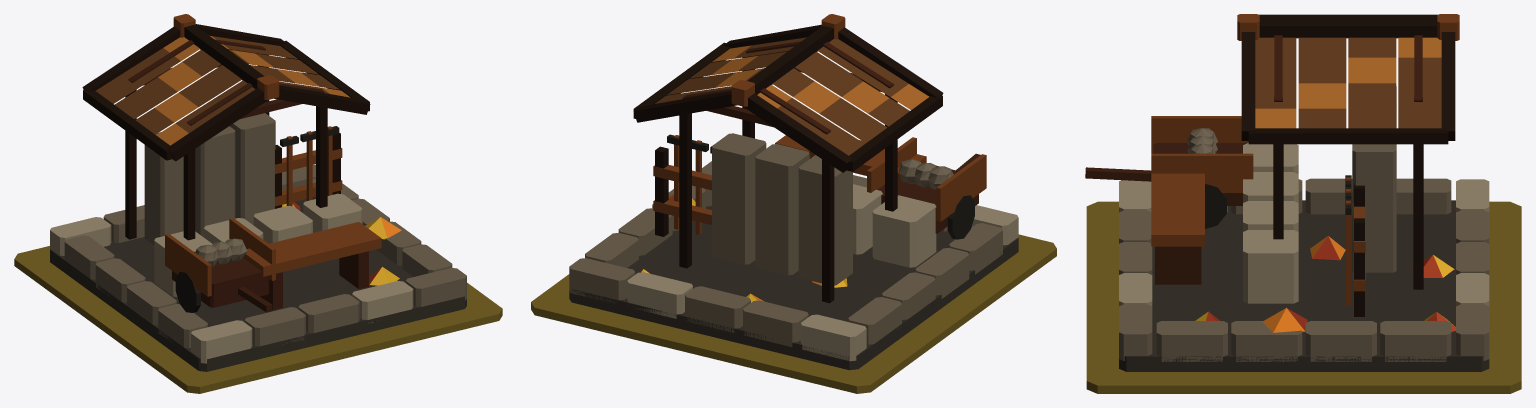
Rendered from mason_yard_t5.glb.
3 renders of one model, left to right at view 1: azimuth 30°, elevation 25°; view 2: azimuth 150°, elevation 25°; view 3: azimuth 270°, elevation 25°, orthographic. The views are drawn at different scales.
Visible parts, largest first — view 1: MMR | mason_yard | T05 Architecture.001, MMR | mason_yard | Tier 05 Ground.001, MMR | mason_yard | T05 Autumn Dressing.001; view 2: MMR | mason_yard | T05 Architecture.001, MMR | mason_yard | Tier 05 Ground.001; view 3: MMR | mason_yard | T05 Architecture.001, MMR | mason_yard | Tier 05 Ground.001, MMR | mason_yard | T05 Autumn Dressing.001.
Part boxes in pixels (x1,y1,x2,y2): MMR | mason_yard | T05 Architecture.001: (50,14,466,371); MMR | mason_yard | Tier 05 Ground.001: (14,246,502,393); MMR | mason_yard | T05 Autumn Dressing.001: (282,202,401,285); MMR | mason_yard | T05 Architecture.001: (569,14,1018,370); MMR | mason_yard | Tier 05 Ground.001: (531,234,1056,393); MMR | mason_yard | T05 Architecture.001: (1085,14,1489,371); MMR | mason_yard | Tier 05 Ground.001: (1086,201,1521,393); MMR | mason_yard | T05 Autumn Dressing.001: (1195,236,1455,332).
Size of the model in its own units: 2.35 by 1.65 by 2.36.
1 material, 1 textured.
